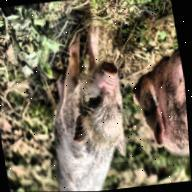boar: (24, 20, 146, 192), (123, 53, 190, 163)
